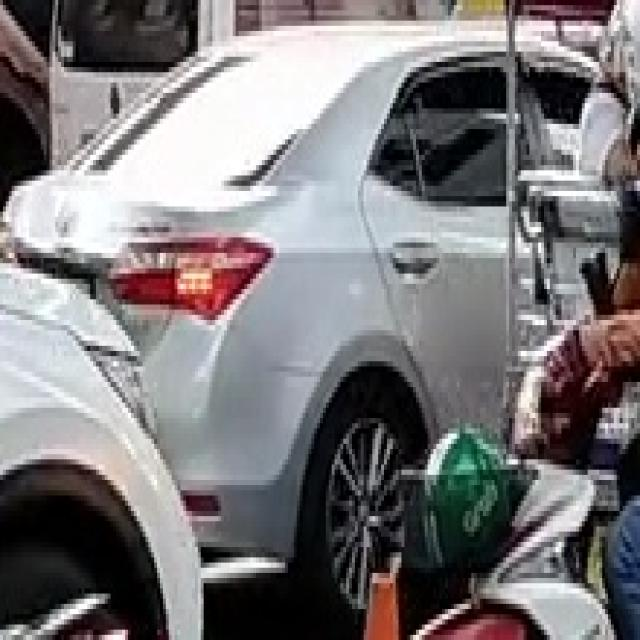door: (358, 51, 515, 444), (500, 0, 622, 428), (46, 0, 197, 170)
helmet: (398, 423, 532, 573), (596, 0, 636, 139)
tyre: (294, 361, 428, 614)
